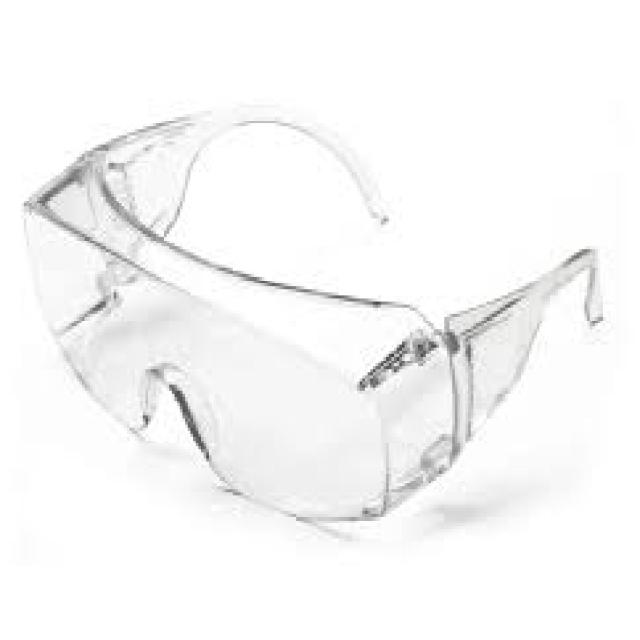oculos-epi: (24, 114, 602, 520)
